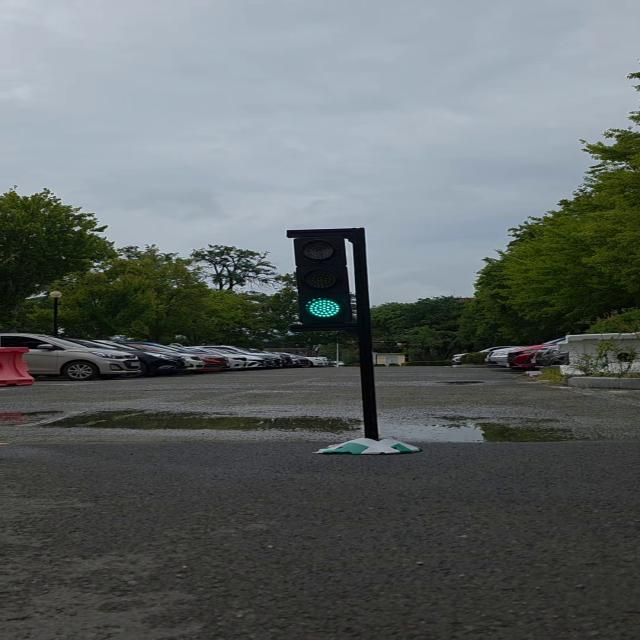green: (292, 230, 367, 328)
